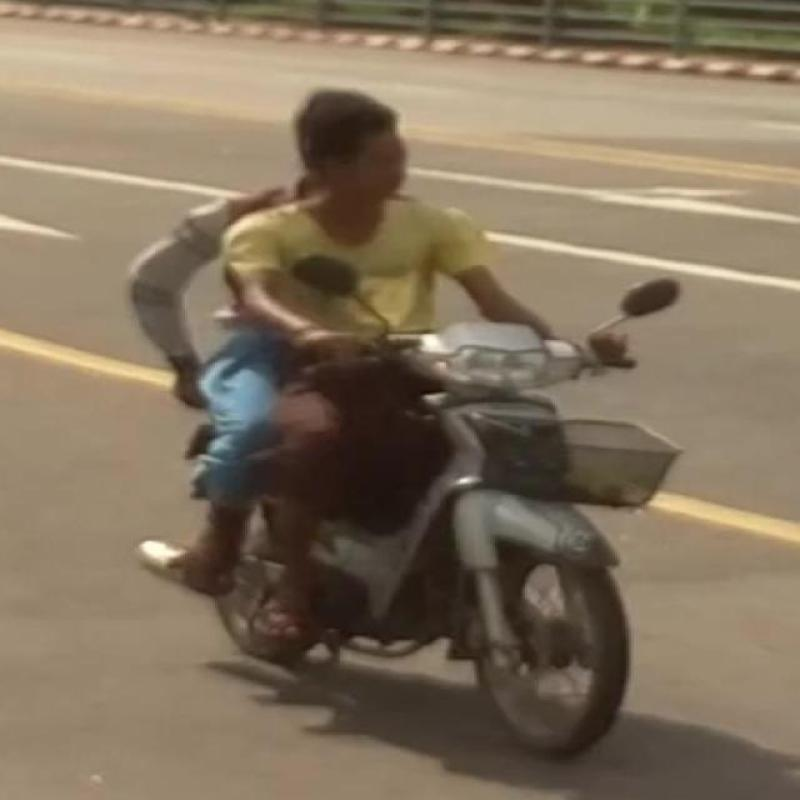nohelmet: (290, 85, 443, 250)
